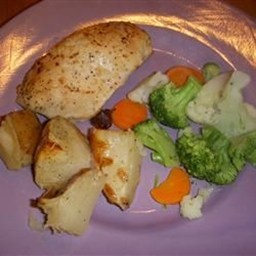background: (0, 8, 102, 94)
